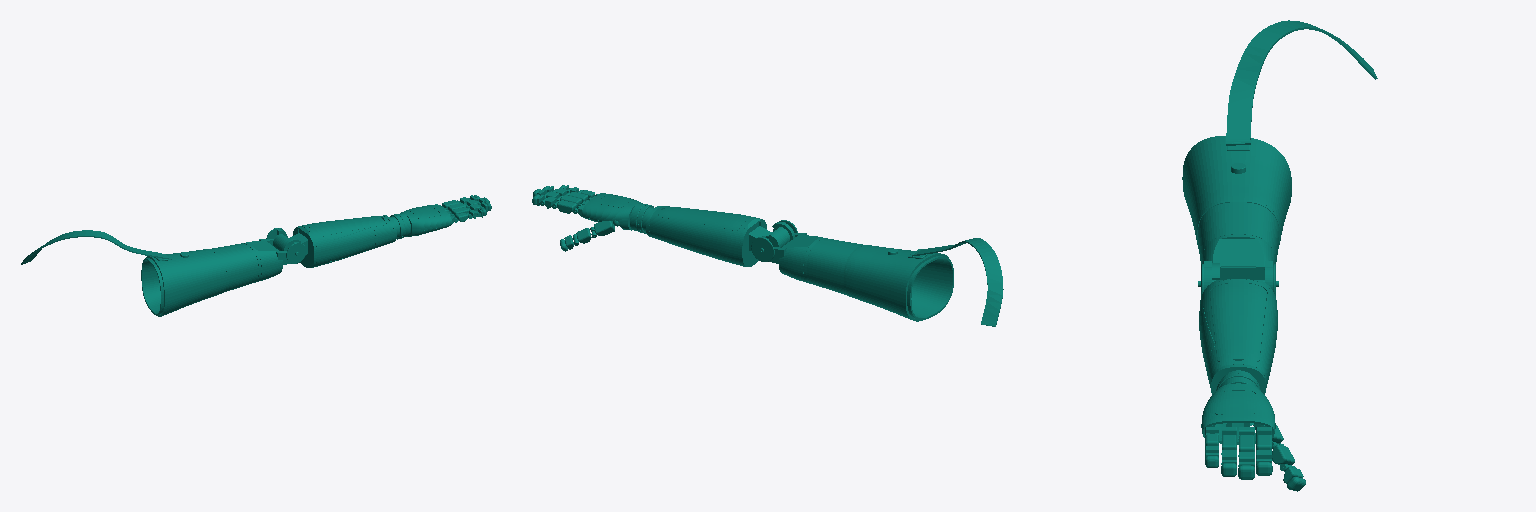
The robot description file, URDF, robot "lrm_protesis_v1":
<?xml version="1.0"?>
<!-- LRM ROBOTICS - Protesis transhumeral V1. Generado por scripts/lrm_urdf.py -->
<!-- Unidades SI (m, kg, rad). Z arriba, brazo derecho hacia +X, palma -Z. Base fija = socket. -->
<robot name="lrm_protesis_v1">
  <material name="rPET"><color rgba="0.10 0.55 0.50 1"/></material>
  <link name="socket_arm">
    <!-- piezas: socket_transhumeral, liner_silicona_medica, emg_electrode_housing_biceps, emg_electrode_housing_triceps, harness_mounting_plate, suspension_harness, arm_proximal_cap, arm_cosmetic_cover, arm_distal_cap, humeral_structural_tube, internal_cable_channel, battery_housing, elbow_body_proximal, elbow_servo_mount, elbow_rotation_axis_pin, elbow_lateral_cover_medial, elbow_friction_screw_medial, elbow_lateral_cover_lateral, elbow_friction_screw_lateral, elbow_angle_limiter -->
    <inertial>
      <origin xyz="0.130860 0.000075 0.004872" rpy="0 0 0"/>
      <mass value="0.47155"/>
      <inertia ixx="9.5105e-04" ixy="1.8788e-04" ixz="2.2079e-04" iyy="4.6114e-03" iyz="-6.6551e-05" izz="4.6190e-03"/>
    </inertial>
    <visual>
      <origin xyz="0 0 0" rpy="0 0 0"/>
      <geometry><mesh filename="meshes/socket_arm.stl" scale="1 1 1"/></geometry>
      <material name="rPET"/>
    </visual>
    <collision>
      <origin xyz="0 0 0" rpy="0 0 0"/>
      <geometry><mesh filename="meshes/socket_arm.stl" scale="1 1 1"/></geometry>
    </collision>
  </link>
  <link name="elbow_joint">
    <!-- piezas: elbow_body_distal, elbow_transmission_gear, forearm_proximal_cap, forearm_lateral_cosmetic_cover, lipo_compartment_lid, forearm_main_housing, solar_panel_support_base, solar_contact_connector, solar_panel_dorsal_forearm, solar_charge_module_cover_TP4056, electronics_compartment_ESP32, lipo_battery_compartment, spring_anchor_plate, five_servo_mount_base, forearm_distal_cap, tendon_guide_tube_pinky, tendon_guide_tube_middle, tendon_guide_tube_index, tendon_guide_tube_ring, tendon_guide_tube_thumb, wrist_proximal_body, wrist_rotation_axis, wrist_cable_passthrough, wrist_locking_ring -->
    <inertial>
      <origin xyz="0.120198 0.000014 -0.009496" rpy="0 0 0"/>
      <mass value="0.27452"/>
      <inertia ixx="1.7777e-04" ixy="-6.3876e-07" ixz="7.0226e-05" iyy="1.8779e-03" iyz="5.4268e-09" izz="1.8845e-03"/>
    </inertial>
    <visual>
      <origin xyz="0 0 0" rpy="0 0 0"/>
      <geometry><mesh filename="meshes/elbow_joint.stl" scale="1 1 1"/></geometry>
      <material name="rPET"/>
    </visual>
    <collision>
      <origin xyz="0 0 0" rpy="0 0 0"/>
      <geometry><mesh filename="meshes/elbow_joint.stl" scale="1 1 1"/></geometry>
    </collision>
  </link>
  <link name="wrist_joint">
    <!-- piezas: wrist_friction_bushing, wrist_distal_body, wrist_cosmetic_cover, palm_palmar_grip_surface, palm_cosmetic_cover, palm_dorsal, metacarpal_support_index, metacarpal_support_middle, metacarpal_support_ring, metacarpal_support_pinky, thumb_servo_mount, thumb_metacarpal_support_45deg, thumb_angular_support_15_45 -->
    <inertial>
      <origin xyz="0.051839 -0.001186 0.000915" rpy="0 0 0"/>
      <mass value="0.07491"/>
      <inertia ixx="3.2675e-05" ixy="-8.4472e-07" ixz="-1.2733e-06" iyy="8.5724e-05" iyz="-7.2582e-07" izz="1.0205e-04"/>
    </inertial>
    <visual>
      <origin xyz="0 0 0" rpy="0 0 0"/>
      <geometry><mesh filename="meshes/wrist_joint.stl" scale="1 1 1"/></geometry>
      <material name="rPET"/>
    </visual>
    <collision>
      <origin xyz="0 0 0" rpy="0 0 0"/>
      <geometry><mesh filename="meshes/wrist_joint.stl" scale="1 1 1"/></geometry>
    </collision>
  </link>
  <link name="index_mcp_joint">
    <!-- piezas: finger_index_joint_mcp, finger_index_return_spring, finger_index_phalanx_proximal, finger_index_tendon_channel -->
    <inertial>
      <origin xyz="0.016436 -0.000004 0.000393" rpy="0 0 0"/>
      <mass value="0.00575"/>
      <inertia ixx="2.0175e-07" ixy="1.9033e-11" ixz="-5.3548e-09" iyy="6.1398e-07" iyz="2.8084e-11" izz="6.5446e-07"/>
    </inertial>
    <visual>
      <origin xyz="0 0 0" rpy="0 0 0"/>
      <geometry><mesh filename="meshes/index_mcp_joint.stl" scale="1 1 1"/></geometry>
      <material name="rPET"/>
    </visual>
    <collision>
      <origin xyz="0 0 0" rpy="0 0 0"/>
      <geometry><mesh filename="meshes/index_mcp_joint.stl" scale="1 1 1"/></geometry>
    </collision>
  </link>
  <link name="middle_mcp_joint">
    <!-- piezas: finger_middle_joint_mcp, finger_middle_return_spring, finger_middle_phalanx_proximal, finger_middle_tendon_channel -->
    <inertial>
      <origin xyz="0.018049 -0.000004 0.000386" rpy="0 0 0"/>
      <mass value="0.00672"/>
      <inertia ixx="2.5369e-07" ixy="3.3627e-12" ixz="-5.8316e-09" iyy="8.2375e-07" iyz="4.9441e-11" izz="8.7181e-07"/>
    </inertial>
    <visual>
      <origin xyz="0 0 0" rpy="0 0 0"/>
      <geometry><mesh filename="meshes/middle_mcp_joint.stl" scale="1 1 1"/></geometry>
      <material name="rPET"/>
    </visual>
    <collision>
      <origin xyz="0 0 0" rpy="0 0 0"/>
      <geometry><mesh filename="meshes/middle_mcp_joint.stl" scale="1 1 1"/></geometry>
    </collision>
  </link>
  <link name="ring_mcp_joint">
    <!-- piezas: finger_ring_joint_mcp, finger_ring_return_spring, finger_ring_phalanx_proximal, finger_ring_tendon_channel -->
    <inertial>
      <origin xyz="0.016965 -0.000004 0.000373" rpy="0 0 0"/>
      <mass value="0.00576"/>
      <inertia ixx="1.9531e-07" ixy="1.1335e-11" ixz="-5.0047e-09" iyy="6.4399e-07" iyz="3.0407e-11" izz="6.7652e-07"/>
    </inertial>
    <visual>
      <origin xyz="0 0 0" rpy="0 0 0"/>
      <geometry><mesh filename="meshes/ring_mcp_joint.stl" scale="1 1 1"/></geometry>
      <material name="rPET"/>
    </visual>
    <collision>
      <origin xyz="0 0 0" rpy="0 0 0"/>
      <geometry><mesh filename="meshes/ring_mcp_joint.stl" scale="1 1 1"/></geometry>
    </collision>
  </link>
  <link name="pinky_mcp_joint">
    <!-- piezas: finger_pinky_joint_mcp, finger_pinky_return_spring, finger_pinky_phalanx_proximal, finger_pinky_tendon_channel -->
    <inertial>
      <origin xyz="0.012056 -0.000003 0.000402" rpy="0 0 0"/>
      <mass value="0.00327"/>
      <inertia ixx="8.2406e-08" ixy="3.9437e-11" ixz="-3.6367e-09" iyy="2.2972e-07" iyz="-2.5937e-11" izz="2.4399e-07"/>
    </inertial>
    <visual>
      <origin xyz="0 0 0" rpy="0 0 0"/>
      <geometry><mesh filename="meshes/pinky_mcp_joint.stl" scale="1 1 1"/></geometry>
      <material name="rPET"/>
    </visual>
    <collision>
      <origin xyz="0 0 0" rpy="0 0 0"/>
      <geometry><mesh filename="meshes/pinky_mcp_joint.stl" scale="1 1 1"/></geometry>
    </collision>
  </link>
  <link name="thumb_cmc_opposition_joint">
    <!-- piezas:  -->
    <inertial>
      <origin xyz="0.000000 0.000000 0.000000" rpy="0 0 0"/>
      <mass value="0.00100"/>
      <inertia ixx="1.0000e-08" ixy="0.0000e+00" ixz="0.0000e+00" iyy="1.0000e-08" iyz="0.0000e+00" izz="1.0000e-08"/>
    </inertial>
  </link>
  <link name="thumb_cmc_flexion_joint">
    <!-- piezas: thumb_joint_cmc, thumb_metacarpal -->
    <inertial>
      <origin xyz="0.017888 -0.000001 0.000353" rpy="0 0 0"/>
      <mass value="0.00818"/>
      <inertia ixx="3.5531e-07" ixy="4.3968e-10" ixz="-3.8745e-08" iyy="1.1641e-06" iyz="1.0561e-09" izz="1.2306e-06"/>
    </inertial>
    <visual>
      <origin xyz="0 0 0" rpy="0 0 0"/>
      <geometry><mesh filename="meshes/thumb_cmc_flexion_joint.stl" scale="1 1 1"/></geometry>
      <material name="rPET"/>
    </visual>
    <collision>
      <origin xyz="0 0 0" rpy="0 0 0"/>
      <geometry><mesh filename="meshes/thumb_cmc_flexion_joint.stl" scale="1 1 1"/></geometry>
    </collision>
  </link>
  <link name="thumb_mcp_joint">
    <!-- piezas: thumb_joint_mcp, thumb_return_spring, thumb_phalanx_proximal -->
    <inertial>
      <origin xyz="0.012768 -0.000002 0.000853" rpy="0 0 0"/>
      <mass value="0.00486"/>
      <inertia ixx="1.9383e-07" ixy="9.8989e-11" ixz="-1.0966e-08" iyy="3.6839e-07" iyz="-1.5855e-11" izz="4.2687e-07"/>
    </inertial>
    <visual>
      <origin xyz="0 0 0" rpy="0 0 0"/>
      <geometry><mesh filename="meshes/thumb_mcp_joint.stl" scale="1 1 1"/></geometry>
      <material name="rPET"/>
    </visual>
    <collision>
      <origin xyz="0 0 0" rpy="0 0 0"/>
      <geometry><mesh filename="meshes/thumb_mcp_joint.stl" scale="1 1 1"/></geometry>
    </collision>
  </link>
  <link name="index_pip_joint">
    <!-- piezas: finger_index_joint_pip, finger_index_phalanx_middle -->
    <inertial>
      <origin xyz="0.007693 0.000001 0.001047" rpy="0 0 0"/>
      <mass value="0.00280"/>
      <inertia ixx="9.0877e-08" ixy="-8.1004e-12" ixz="-9.6887e-09" iyy="1.2669e-07" iyz="1.2737e-11" izz="1.5912e-07"/>
    </inertial>
    <visual>
      <origin xyz="0 0 0" rpy="0 0 0"/>
      <geometry><mesh filename="meshes/index_pip_joint.stl" scale="1 1 1"/></geometry>
      <material name="rPET"/>
    </visual>
    <collision>
      <origin xyz="0 0 0" rpy="0 0 0"/>
      <geometry><mesh filename="meshes/index_pip_joint.stl" scale="1 1 1"/></geometry>
    </collision>
  </link>
  <link name="middle_pip_joint">
    <!-- piezas: finger_middle_joint_pip, finger_middle_phalanx_middle -->
    <inertial>
      <origin xyz="0.009366 -0.000001 0.001035" rpy="0 0 0"/>
      <mass value="0.00346"/>
      <inertia ixx="1.2133e-07" ixy="6.6727e-11" ixz="-1.1158e-08" iyy="1.9079e-07" iyz="-8.0823e-12" izz="2.3060e-07"/>
    </inertial>
    <visual>
      <origin xyz="0 0 0" rpy="0 0 0"/>
      <geometry><mesh filename="meshes/middle_pip_joint.stl" scale="1 1 1"/></geometry>
      <material name="rPET"/>
    </visual>
    <collision>
      <origin xyz="0 0 0" rpy="0 0 0"/>
      <geometry><mesh filename="meshes/middle_pip_joint.stl" scale="1 1 1"/></geometry>
    </collision>
  </link>
  <link name="ring_pip_joint">
    <!-- piezas: finger_ring_joint_pip, finger_ring_phalanx_middle -->
    <inertial>
      <origin xyz="0.008765 -0.000001 0.001017" rpy="0 0 0"/>
      <mass value="0.00302"/>
      <inertia ixx="9.5103e-08" ixy="4.1555e-11" ixz="-9.8949e-09" iyy="1.5553e-07" iyz="-6.4615e-12" izz="1.8513e-07"/>
    </inertial>
    <visual>
      <origin xyz="0 0 0" rpy="0 0 0"/>
      <geometry><mesh filename="meshes/ring_pip_joint.stl" scale="1 1 1"/></geometry>
      <material name="rPET"/>
    </visual>
    <collision>
      <origin xyz="0 0 0" rpy="0 0 0"/>
      <geometry><mesh filename="meshes/ring_pip_joint.stl" scale="1 1 1"/></geometry>
    </collision>
  </link>
  <link name="pinky_pip_joint">
    <!-- piezas: finger_pinky_joint_pip, finger_pinky_phalanx_middle -->
    <inertial>
      <origin xyz="0.005352 0.000000 0.000772" rpy="0 0 0"/>
      <mass value="0.00174"/>
      <inertia ixx="4.1318e-08" ixy="3.0729e-12" ixz="-4.9072e-09" iyy="5.6853e-08" iyz="-1.1797e-12" izz="6.9832e-08"/>
    </inertial>
    <visual>
      <origin xyz="0 0 0" rpy="0 0 0"/>
      <geometry><mesh filename="meshes/pinky_pip_joint.stl" scale="1 1 1"/></geometry>
      <material name="rPET"/>
    </visual>
    <collision>
      <origin xyz="0 0 0" rpy="0 0 0"/>
      <geometry><mesh filename="meshes/pinky_pip_joint.stl" scale="1 1 1"/></geometry>
    </collision>
  </link>
  <link name="index_dip_joint">
    <!-- piezas: finger_index_joint_dip, finger_index_phalanx_distal, finger_index_distal_tendon_anchor, finger_index_fingertip_pad -->
    <inertial>
      <origin xyz="0.008811 0.000001 -0.000046" rpy="0 0 0"/>
      <mass value="0.00352"/>
      <inertia ixx="1.1517e-07" ixy="3.4530e-12" ixz="-1.0657e-09" iyy="1.8079e-07" iyz="4.7603e-12" izz="2.0631e-07"/>
    </inertial>
    <visual>
      <origin xyz="0 0 0" rpy="0 0 0"/>
      <geometry><mesh filename="meshes/index_dip_joint.stl" scale="1 1 1"/></geometry>
      <material name="rPET"/>
    </visual>
    <collision>
      <origin xyz="0 0 0" rpy="0 0 0"/>
      <geometry><mesh filename="meshes/index_dip_joint.stl" scale="1 1 1"/></geometry>
    </collision>
  </link>
  <link name="middle_dip_joint">
    <!-- piezas: finger_middle_joint_dip, finger_middle_phalanx_distal, finger_middle_distal_tendon_anchor, finger_middle_fingertip_pad -->
    <inertial>
      <origin xyz="0.009509 0.000001 0.000028" rpy="0 0 0"/>
      <mass value="0.00389"/>
      <inertia ixx="1.3692e-07" ixy="3.6100e-12" ixz="4.3201e-10" iyy="2.1575e-07" iyz="5.5928e-12" izz="2.4537e-07"/>
    </inertial>
    <visual>
      <origin xyz="0 0 0" rpy="0 0 0"/>
      <geometry><mesh filename="meshes/middle_dip_joint.stl" scale="1 1 1"/></geometry>
      <material name="rPET"/>
    </visual>
    <collision>
      <origin xyz="0 0 0" rpy="0 0 0"/>
      <geometry><mesh filename="meshes/middle_dip_joint.stl" scale="1 1 1"/></geometry>
    </collision>
  </link>
  <link name="ring_dip_joint">
    <!-- piezas: finger_ring_joint_dip, finger_ring_phalanx_distal, finger_ring_distal_tendon_anchor, finger_ring_fingertip_pad -->
    <inertial>
      <origin xyz="0.008803 0.000001 -0.000045" rpy="0 0 0"/>
      <mass value="0.00341"/>
      <inertia ixx="1.0705e-07" ixy="3.3194e-12" ixz="-1.0234e-09" iyy="1.7469e-07" iyz="4.5997e-12" izz="1.9518e-07"/>
    </inertial>
    <visual>
      <origin xyz="0 0 0" rpy="0 0 0"/>
      <geometry><mesh filename="meshes/ring_dip_joint.stl" scale="1 1 1"/></geometry>
      <material name="rPET"/>
    </visual>
    <collision>
      <origin xyz="0 0 0" rpy="0 0 0"/>
      <geometry><mesh filename="meshes/ring_dip_joint.stl" scale="1 1 1"/></geometry>
    </collision>
  </link>
  <link name="pinky_dip_joint">
    <!-- piezas: finger_pinky_joint_dip, finger_pinky_phalanx_distal, finger_pinky_distal_tendon_anchor, finger_pinky_fingertip_pad -->
    <inertial>
      <origin xyz="0.007262 0.000001 -0.000190" rpy="0 0 0"/>
      <mass value="0.00248"/>
      <inertia ixx="5.8829e-08" ixy="2.3005e-12" ixz="-2.3835e-09" iyy="1.0633e-07" iyz="3.5505e-12" izz="1.1642e-07"/>
    </inertial>
    <visual>
      <origin xyz="0 0 0" rpy="0 0 0"/>
      <geometry><mesh filename="meshes/pinky_dip_joint.stl" scale="1 1 1"/></geometry>
      <material name="rPET"/>
    </visual>
    <collision>
      <origin xyz="0 0 0" rpy="0 0 0"/>
      <geometry><mesh filename="meshes/pinky_dip_joint.stl" scale="1 1 1"/></geometry>
    </collision>
  </link>
  <link name="thumb_ip_joint">
    <!-- piezas: thumb_joint_ip, thumb_phalanx_distal, thumb_distal_tendon_anchor, thumb_fingertip_pad -->
    <inertial>
      <origin xyz="0.013097 0.000011 0.000153" rpy="0 0 0"/>
      <mass value="0.00531"/>
      <inertia ixx="2.0747e-07" ixy="1.0664e-10" ixz="1.0179e-08" iyy="4.2113e-07" iyz="1.8645e-10" izz="4.6876e-07"/>
    </inertial>
    <visual>
      <origin xyz="0 0 0" rpy="0 0 0"/>
      <geometry><mesh filename="meshes/thumb_ip_joint.stl" scale="1 1 1"/></geometry>
      <material name="rPET"/>
    </visual>
    <collision>
      <origin xyz="0 0 0" rpy="0 0 0"/>
      <geometry><mesh filename="meshes/thumb_ip_joint.stl" scale="1 1 1"/></geometry>
    </collision>
  </link>
  <joint name="elbow_joint" type="revolute">
    <!-- Codo: flexion 0-135 deg, eje medio-lateral | reposo Blender: 0.0 deg -->
    <parent link="socket_arm"/>
    <child link="elbow_joint"/>
    <origin xyz="0.300000 0.000000 0.016000" rpy="0.000000 -0.000000 0.000000"/>
    <axis xyz="0.000000 -1.000000 0.000000"/>
    <limit lower="0.00000" upper="2.35619" effort="2.0" velocity="1.5"/>
    <dynamics damping="0.02" friction="0.01"/>
  </joint>
  <joint name="wrist_joint" type="revolute">
    <!-- Muneca: prono-supinacion +-90 deg, eje largo del antebrazo | reposo Blender: 0.0 deg -->
    <parent link="elbow_joint"/>
    <child link="wrist_joint"/>
    <origin xyz="0.234500 0.000000 -0.016000" rpy="0.000000 -0.000000 0.000000"/>
    <axis xyz="1.000000 0.000000 0.000000"/>
    <limit lower="-1.57080" upper="1.57080" effort="0.6" velocity="1.0"/>
    <dynamics damping="0.02" friction="0.01"/>
  </joint>
  <joint name="index_mcp_joint" type="revolute">
    <!-- index MCP flexion | reposo Blender: 5 deg -->
    <parent link="wrist_joint"/>
    <child link="index_mcp_joint"/>
    <origin xyz="0.109500 0.026500 0.001000" rpy="0.000000 -0.000000 0.000000"/>
    <axis xyz="0.000000 1.000000 0.000000"/>
    <limit lower="0.00000" upper="1.57080" effort="0.25" velocity="4.0"/>
    <dynamics damping="0.02" friction="0.01"/>
  </joint>
  <joint name="index_pip_joint" type="revolute">
    <!-- index PIP flexion | reposo Blender: 8 deg -->
    <parent link="index_mcp_joint"/>
    <child link="index_pip_joint"/>
    <origin xyz="0.038000 0.000000 0.000000" rpy="0.000000 -0.000000 0.000000"/>
    <axis xyz="0.000000 1.000000 0.000000"/>
    <limit lower="0.00000" upper="1.57080" effort="0.25" velocity="4.0"/>
    <dynamics damping="0.02" friction="0.01"/>
  </joint>
  <joint name="index_dip_joint" type="revolute">
    <!-- index DIP flexion | reposo Blender: 5 deg -->
    <parent link="index_pip_joint"/>
    <child link="index_dip_joint"/>
    <origin xyz="0.022000 0.000000 0.000000" rpy="0.000000 -0.000000 0.000000"/>
    <axis xyz="0.000000 1.000000 0.000000"/>
    <limit lower="0.00000" upper="1.57080" effort="0.25" velocity="4.0"/>
    <dynamics damping="0.02" friction="0.01"/>
  </joint>
  <joint name="middle_mcp_joint" type="revolute">
    <!-- middle MCP flexion | reposo Blender: 8 deg -->
    <parent link="wrist_joint"/>
    <child link="middle_mcp_joint"/>
    <origin xyz="0.111500 0.008500 0.001000" rpy="0.000000 -0.000000 0.000000"/>
    <axis xyz="0.000000 1.000000 0.000000"/>
    <limit lower="0.00000" upper="1.57080" effort="0.25" velocity="4.0"/>
    <dynamics damping="0.02" friction="0.01"/>
  </joint>
  <joint name="middle_pip_joint" type="revolute">
    <!-- middle PIP flexion | reposo Blender: 12 deg -->
    <parent link="middle_mcp_joint"/>
    <child link="middle_pip_joint"/>
    <origin xyz="0.041000 0.000000 0.000000" rpy="0.000000 -0.000000 0.000000"/>
    <axis xyz="0.000000 1.000000 0.000000"/>
    <limit lower="0.00000" upper="1.57080" effort="0.25" velocity="4.0"/>
    <dynamics damping="0.02" friction="0.01"/>
  </joint>
  <joint name="middle_dip_joint" type="revolute">
    <!-- middle DIP flexion | reposo Blender: 6 deg -->
    <parent link="middle_pip_joint"/>
    <child link="middle_dip_joint"/>
    <origin xyz="0.025000 0.000000 0.000000" rpy="0.000000 -0.000000 0.000000"/>
    <axis xyz="0.000000 1.000000 0.000000"/>
    <limit lower="0.00000" upper="1.57080" effort="0.25" velocity="4.0"/>
    <dynamics damping="0.02" friction="0.01"/>
  </joint>
  <joint name="ring_mcp_joint" type="revolute">
    <!-- ring MCP flexion | reposo Blender: 10 deg -->
    <parent link="wrist_joint"/>
    <child link="ring_mcp_joint"/>
    <origin xyz="0.109500 -0.009500 0.001000" rpy="0.000000 -0.000000 0.000000"/>
    <axis xyz="0.000000 1.000000 0.000000"/>
    <limit lower="0.00000" upper="1.57080" effort="0.25" velocity="4.0"/>
    <dynamics damping="0.02" friction="0.01"/>
  </joint>
  <joint name="ring_pip_joint" type="revolute">
    <!-- ring PIP flexion | reposo Blender: 15 deg -->
    <parent link="ring_mcp_joint"/>
    <child link="ring_pip_joint"/>
    <origin xyz="0.039000 0.000000 0.000000" rpy="0.000000 -0.000000 0.000000"/>
    <axis xyz="0.000000 1.000000 0.000000"/>
    <limit lower="0.00000" upper="1.57080" effort="0.25" velocity="4.0"/>
    <dynamics damping="0.02" friction="0.01"/>
  </joint>
  <joint name="ring_dip_joint" type="revolute">
    <!-- ring DIP flexion | reposo Blender: 8 deg -->
    <parent link="ring_pip_joint"/>
    <child link="ring_dip_joint"/>
    <origin xyz="0.024000 0.000000 0.000000" rpy="0.000000 -0.000000 0.000000"/>
    <axis xyz="0.000000 1.000000 0.000000"/>
    <limit lower="0.00000" upper="1.57080" effort="0.25" velocity="4.0"/>
    <dynamics damping="0.02" friction="0.01"/>
  </joint>
  <joint name="pinky_mcp_joint" type="revolute">
    <!-- pinky MCP flexion | reposo Blender: 14 deg -->
    <parent link="wrist_joint"/>
    <child link="pinky_mcp_joint"/>
    <origin xyz="0.106500 -0.027000 0.001000" rpy="0.000000 -0.000000 0.000000"/>
    <axis xyz="0.000000 1.000000 0.000000"/>
    <limit lower="0.00000" upper="1.57080" effort="0.25" velocity="4.0"/>
    <dynamics damping="0.02" friction="0.01"/>
  </joint>
  <joint name="pinky_pip_joint" type="revolute">
    <!-- pinky PIP flexion | reposo Blender: 18 deg -->
    <parent link="pinky_mcp_joint"/>
    <child link="pinky_pip_joint"/>
    <origin xyz="0.030000 0.000000 0.000000" rpy="0.000000 -0.000000 0.000000"/>
    <axis xyz="0.000000 1.000000 0.000000"/>
    <limit lower="0.00000" upper="1.57080" effort="0.25" velocity="4.0"/>
    <dynamics damping="0.02" friction="0.01"/>
  </joint>
  <joint name="pinky_dip_joint" type="revolute">
    <!-- pinky DIP flexion | reposo Blender: 10 deg -->
    <parent link="pinky_pip_joint"/>
    <child link="pinky_dip_joint"/>
    <origin xyz="0.018000 0.000000 0.000000" rpy="0.000000 -0.000000 0.000000"/>
    <axis xyz="0.000000 1.000000 0.000000"/>
    <limit lower="0.00000" upper="1.57080" effort="0.25" velocity="4.0"/>
    <dynamics damping="0.02" friction="0.01"/>
  </joint>
  <joint name="thumb_cmc_opposition_joint" type="revolute">
    <!-- CMC: arco de oposicion 0-45 deg (rest = 15 deg anatomico) | reposo Blender: 0.0 deg -->
    <parent link="wrist_joint"/>
    <child link="thumb_cmc_opposition_joint"/>
    <origin xyz="0.039500 0.022000 -0.006000" rpy="0.000000 -0.000000 0.000000"/>
    <axis xyz="-1.000000 0.000000 0.000000"/>
    <limit lower="0.00000" upper="0.78540" effort="0.15" velocity="3.0"/>
    <dynamics damping="0.02" friction="0.01"/>
  </joint>
  <joint name="thumb_cmc_flexion_joint" type="revolute">
    <!-- CMC: flexion | reposo Blender: 0.0 deg -->
    <parent link="thumb_cmc_opposition_joint"/>
    <child link="thumb_cmc_flexion_joint"/>
    <origin xyz="0.000000 0.000000 0.000000" rpy="-0.537579 0.466137 0.463648"/>
    <axis xyz="0.000000 1.000000 0.000000"/>
    <limit lower="0.00000" upper="0.52360" effort="0.15" velocity="3.0"/>
    <dynamics damping="0.02" friction="0.01"/>
  </joint>
  <joint name="thumb_mcp_joint" type="revolute">
    <!-- thumb MCP flexion | reposo Blender: 8 deg -->
    <parent link="thumb_cmc_flexion_joint"/>
    <child link="thumb_mcp_joint"/>
    <origin xyz="0.042000 0.000000 0.000000" rpy="-0.000000 -0.000000 0.000000"/>
    <axis xyz="0.000000 1.000000 0.000000"/>
    <limit lower="0.00000" upper="1.04720" effort="0.25" velocity="4.0"/>
    <dynamics damping="0.02" friction="0.01"/>
  </joint>
  <joint name="thumb_ip_joint" type="revolute">
    <!-- thumb IP flexion | reposo Blender: 10 deg -->
    <parent link="thumb_mcp_joint"/>
    <child link="thumb_ip_joint"/>
    <origin xyz="0.031000 -0.000000 -0.000000" rpy="0.000000 -0.000000 -0.000000"/>
    <axis xyz="0.000000 1.000000 0.000000"/>
    <limit lower="0.00000" upper="1.57080" effort="0.25" velocity="4.0"/>
    <dynamics damping="0.02" friction="0.01"/>
  </joint>
</robot>

--- Render facts (derived) ---
Views: 3 orthographic renders of the robot side by side, from view 1: azimuth 30°, elevation 25°; view 2: azimuth 150°, elevation 25°; view 3: azimuth 270°, elevation 25°.
Model lrm_protesis_v1 with 19 links and 18 joints (18 revolute), rooted at socket_arm, posed every joint at zero.
Links seen in each view (by area): view 1: socket_arm, elbow_joint, wrist_joint; view 2: socket_arm, elbow_joint, wrist_joint; view 3: socket_arm, elbow_joint, wrist_joint.
Link boxes in pixels (x1,y1,x2,y2): socket_arm: (21,228,305,316); elbow_joint: (273,214,404,267); wrist_joint: (398,204,454,237); socket_arm: (751,220,1003,326); elbow_joint: (637,204,789,266); wrist_joint: (578,193,644,231); socket_arm: (1182,20,1377,295); elbow_joint: (1199,266,1277,394); wrist_joint: (1201,377,1275,444).
Size in the robot's own frame: 0.9144 by 0.2008 by 0.1764 metres.
Meshes: 18 distinct files referenced, 18 mesh visuals loaded (18 binary STL).
